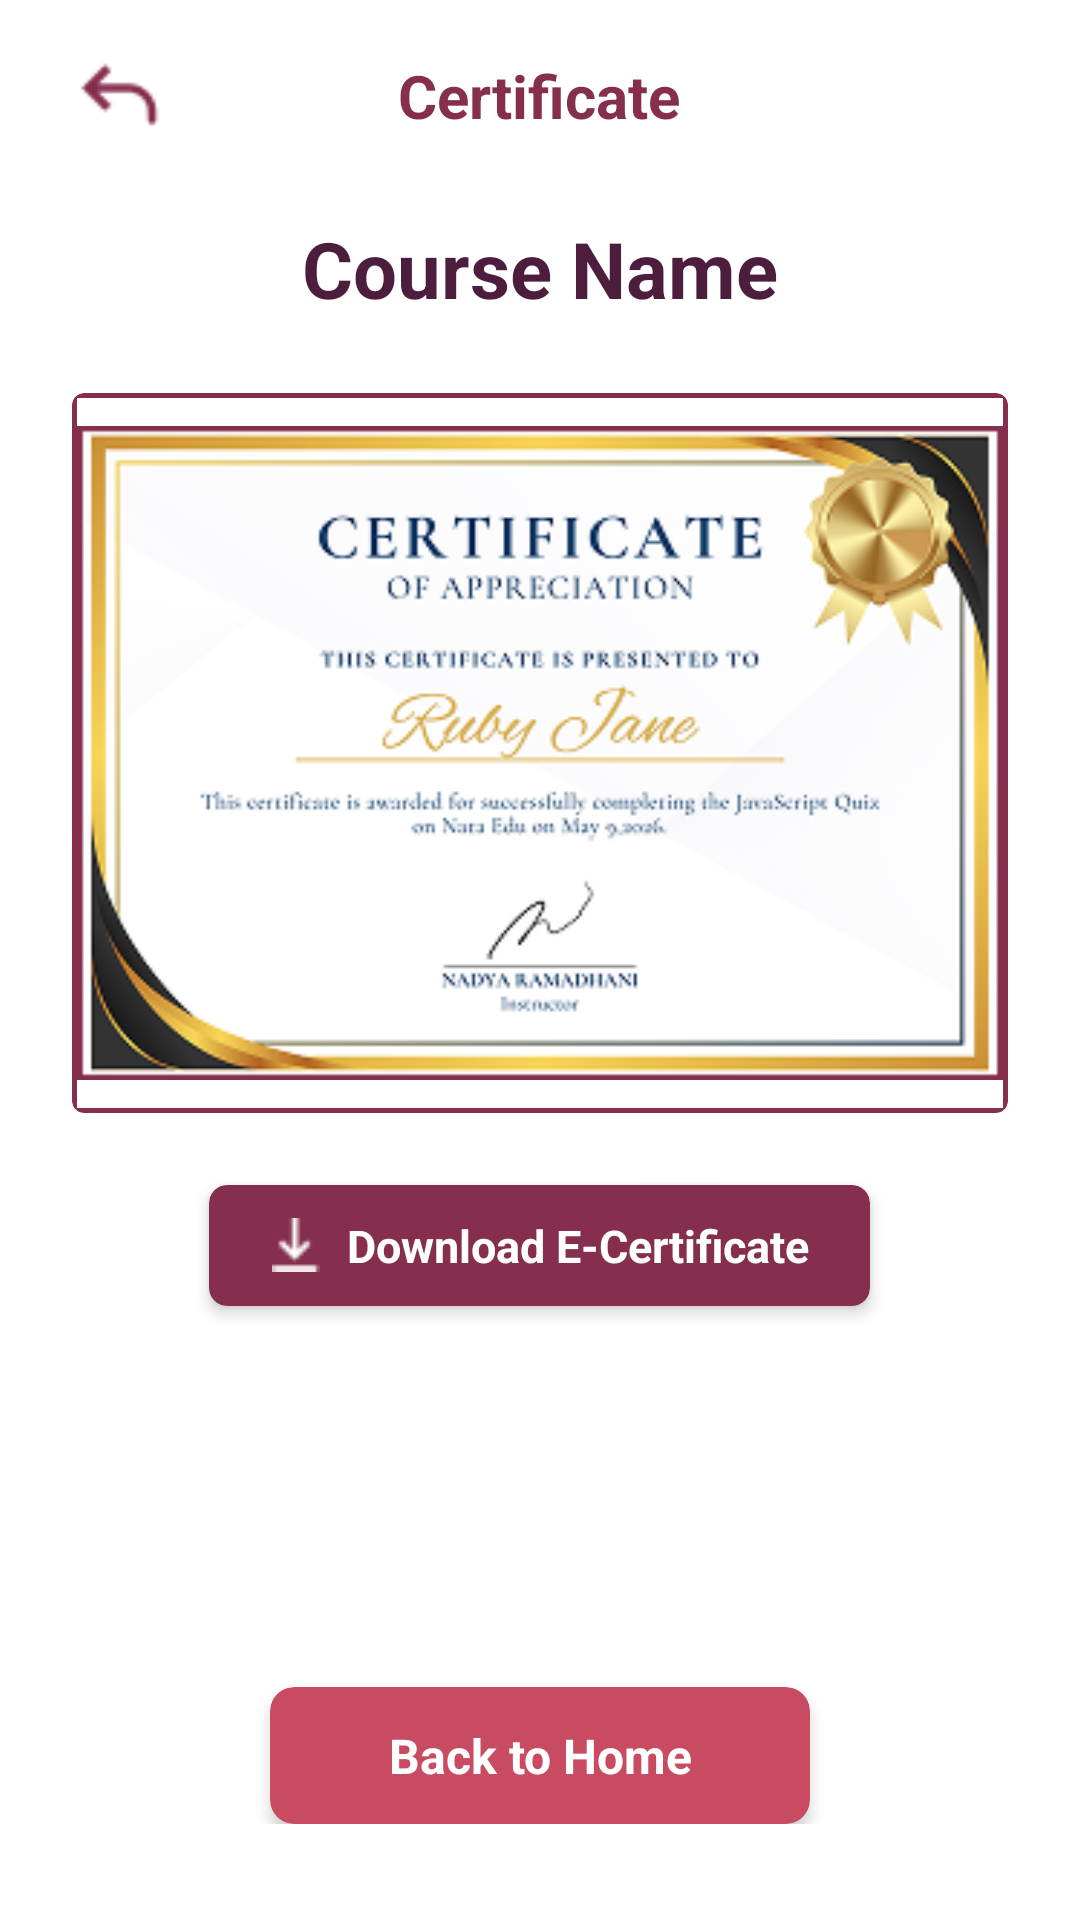

Where to tap for icons on this 1080×1920 app screen, as [x,y]:
back: [120,94]
